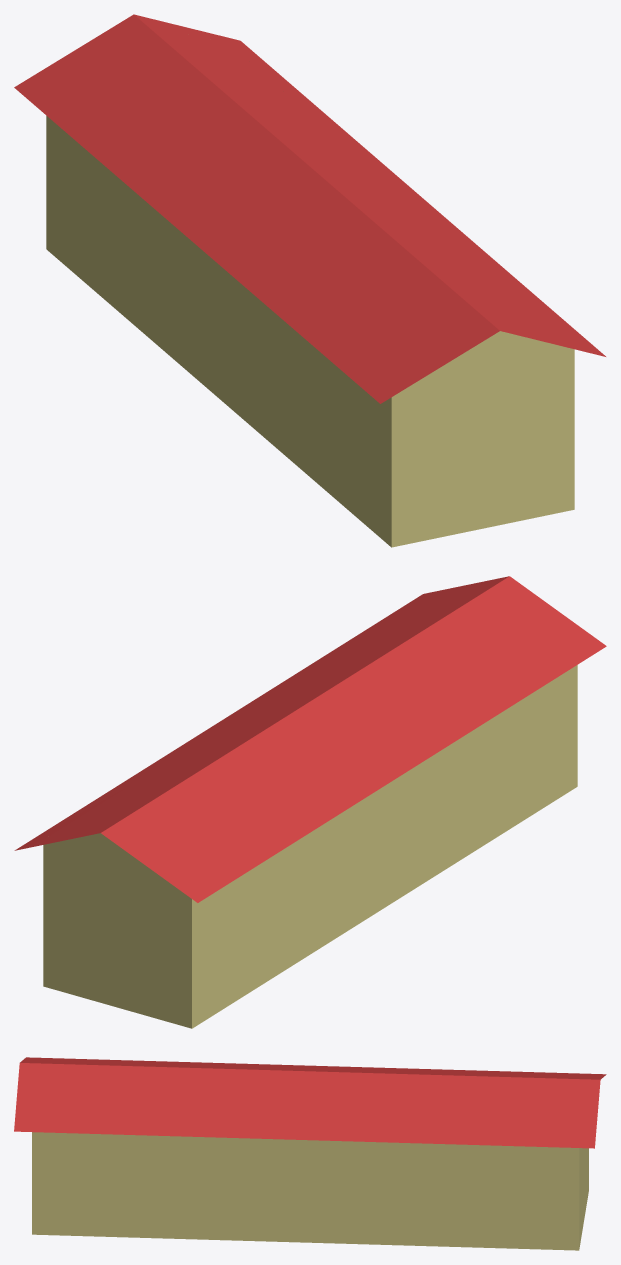
3 renders of one model, top to bottom at view 1: azimuth 30°, elevation 25°; view 2: azimuth 150°, elevation 25°; view 3: azimuth 270°, elevation 25°, orthographic. The views are drawn at different scales.
Size of the model in its own units: 9.6 by 26.41 by 7.05.
